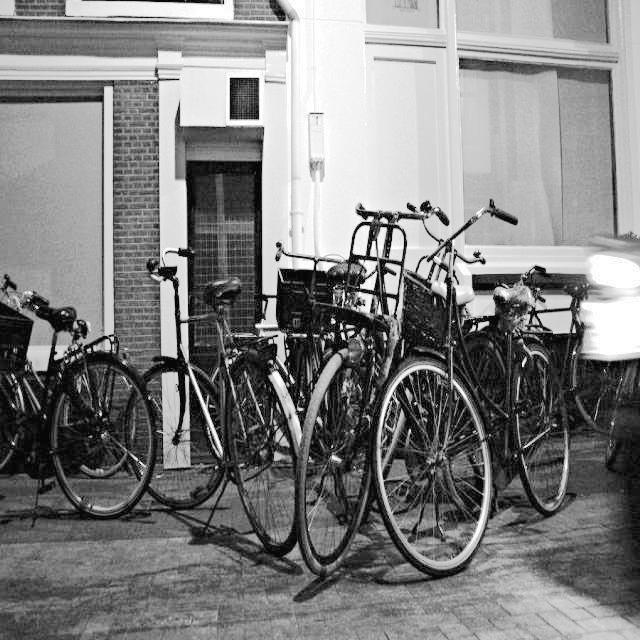Bicycle: (366, 192, 583, 583), (118, 218, 302, 565), (0, 249, 158, 523), (502, 241, 636, 506), (259, 223, 352, 426)
